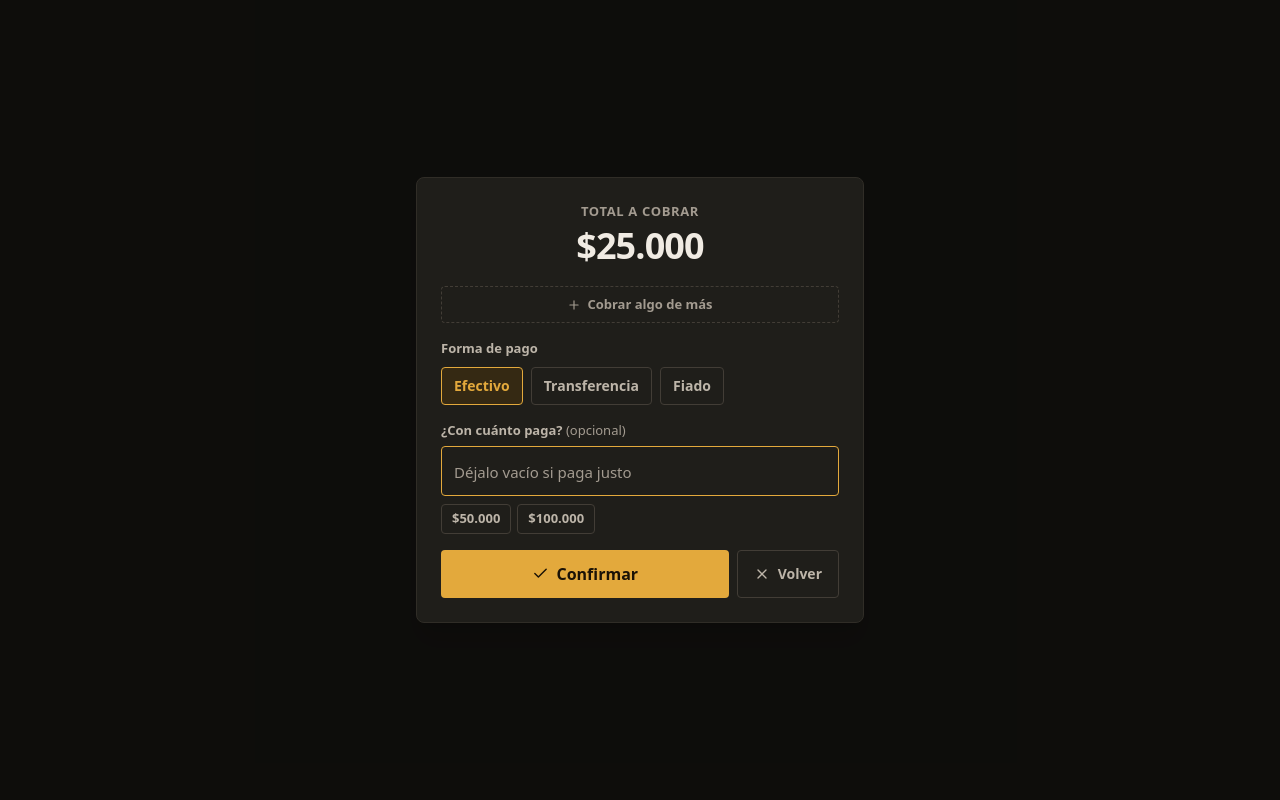
Scenario: el vuelto › los botones de billete llenan el monto
Click the button "$50.000" at (476, 519), box x1=441 y1=504 x2=511 y2=534
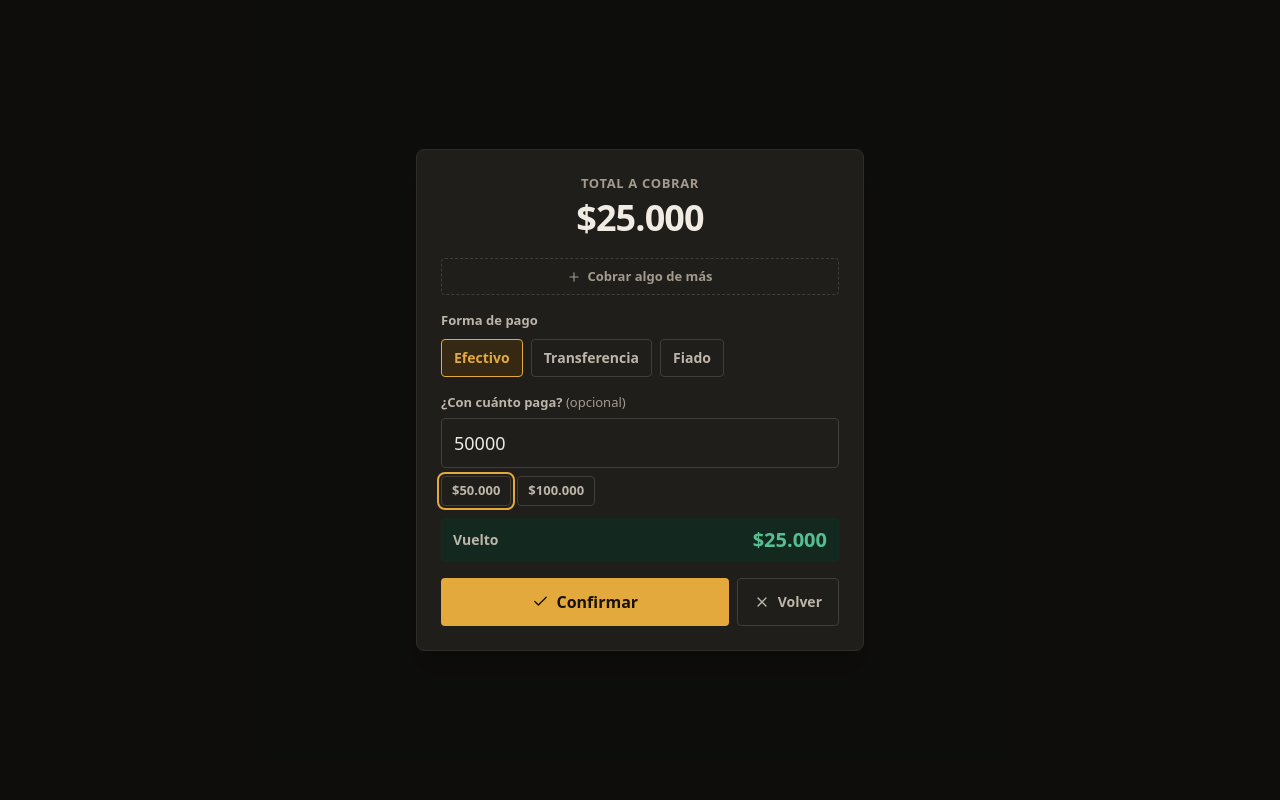
Now the text named "Vuelto" reads "$25.000", box x1=753 y1=526 x2=827 y2=553
